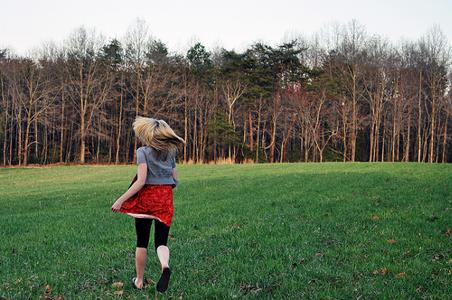person: (111, 114, 188, 295)
